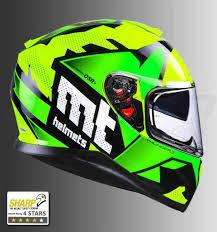helmet: (11, 19, 203, 211)
